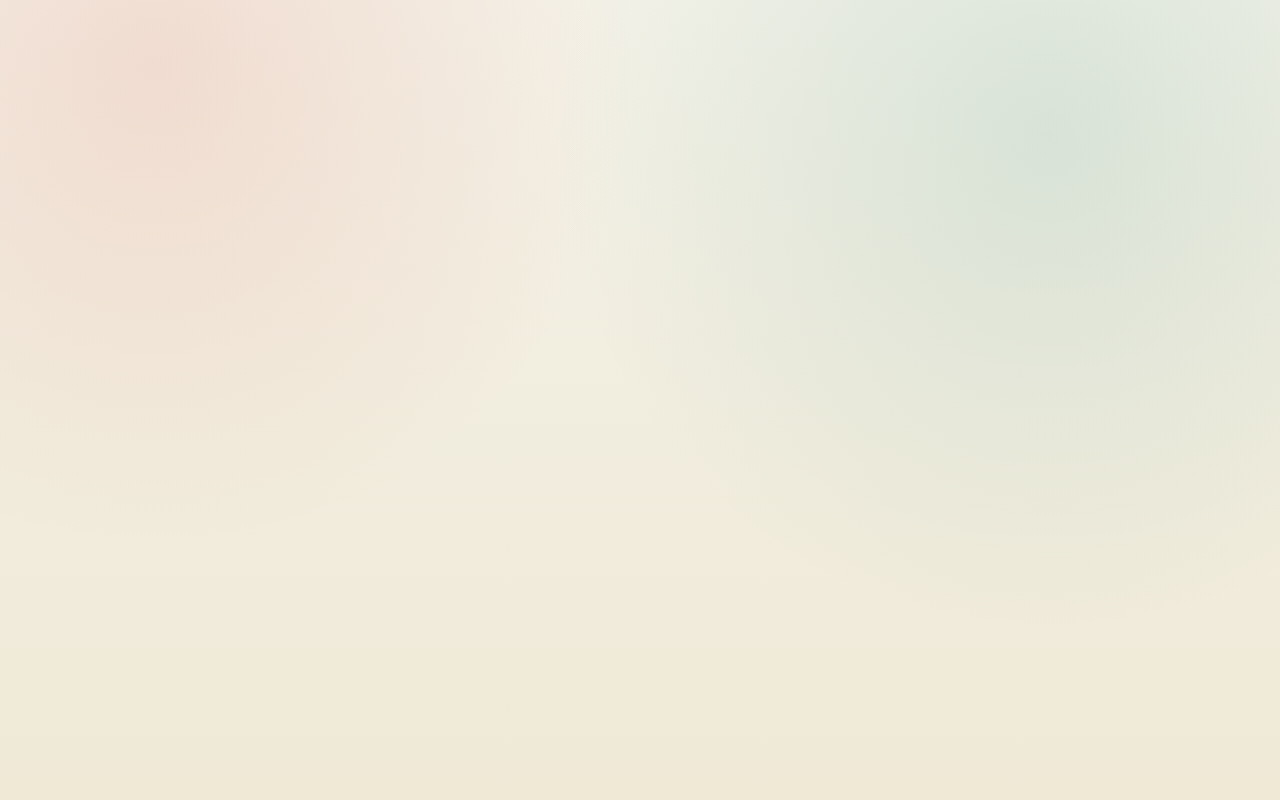
Test: CommandCenter › search input filters items in real-time
The image size is (1280, 800).
Press k
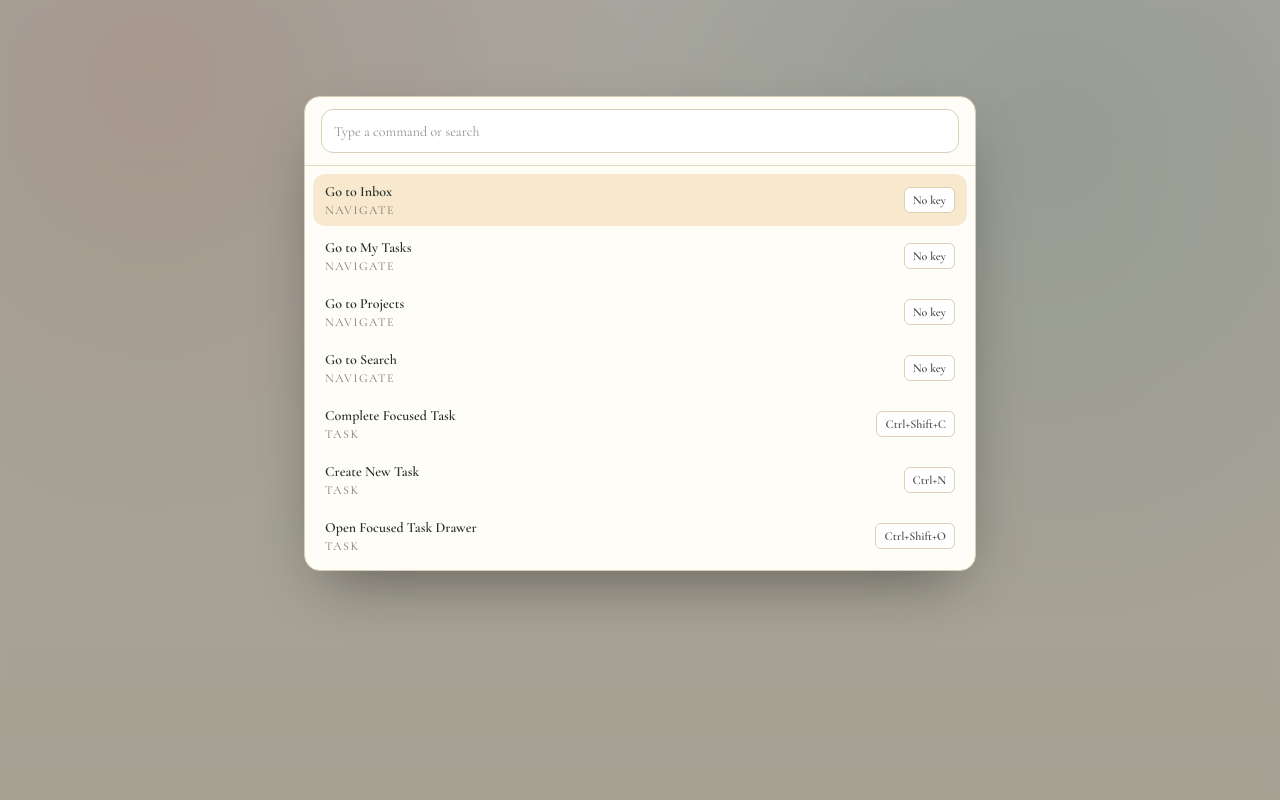
Now the button "Go to My Tasks navigate No key" is shown, box [313,230,967,282]
# Type "inbox" to filter
Type "inbox" into the field with placeholder "Type a command or search" at coordinates (640, 131), box [321,109,959,153]
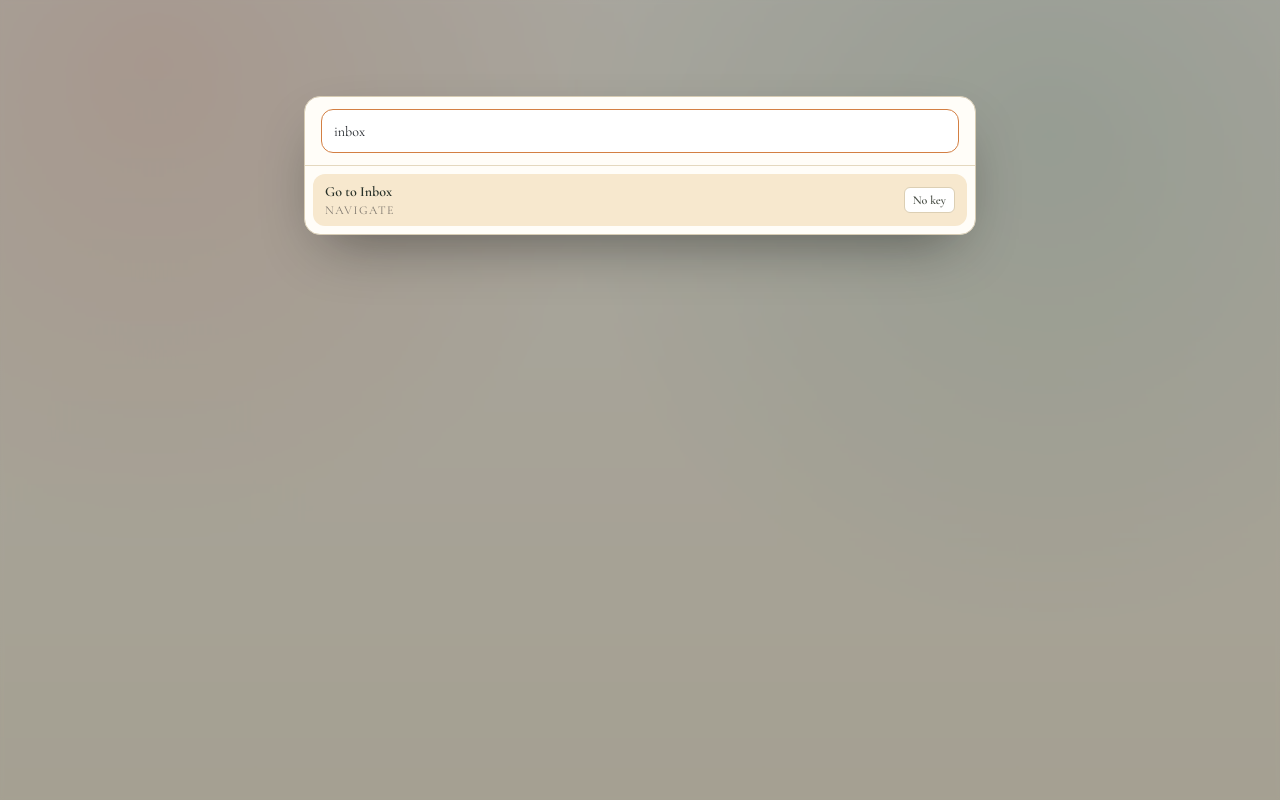
Now the button "Go to Inbox navigate No key" is shown, box [313,174,967,226]
Now the button "Go to Projects" is gone
